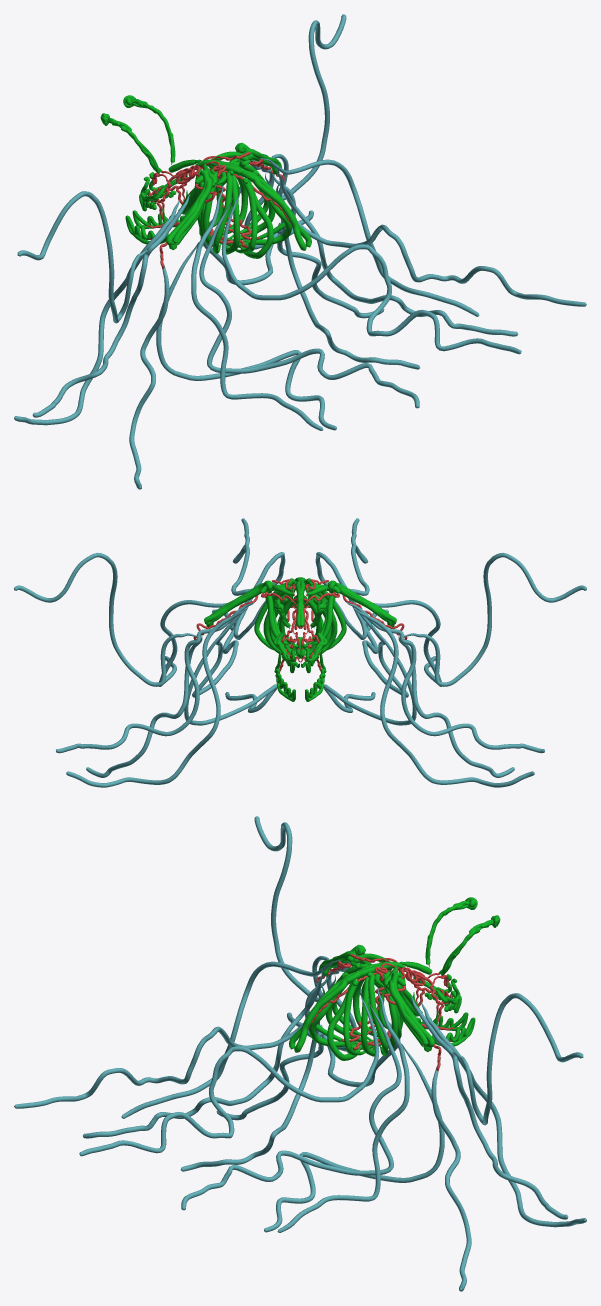
The picture shows the model from 3 angles, top to bottom: view 1: azimuth 30°, elevation 25°; view 2: azimuth 150°, elevation 25°; view 3: azimuth 270°, elevation 25°; orthographic projection. The views are drawn at different scales.
Visible parts, largest first — view 1: Toon_geo; view 2: Toon_geo; view 3: Toon_geo.
Boxes of the visible parts, bbox=[...] form: Toon_geo: bbox=[14, 14, 586, 489]; Toon_geo: bbox=[14, 518, 586, 787]; Toon_geo: bbox=[14, 816, 586, 1291].
Size of the model in its own units: 7.1 by 3.89 by 7.18.
